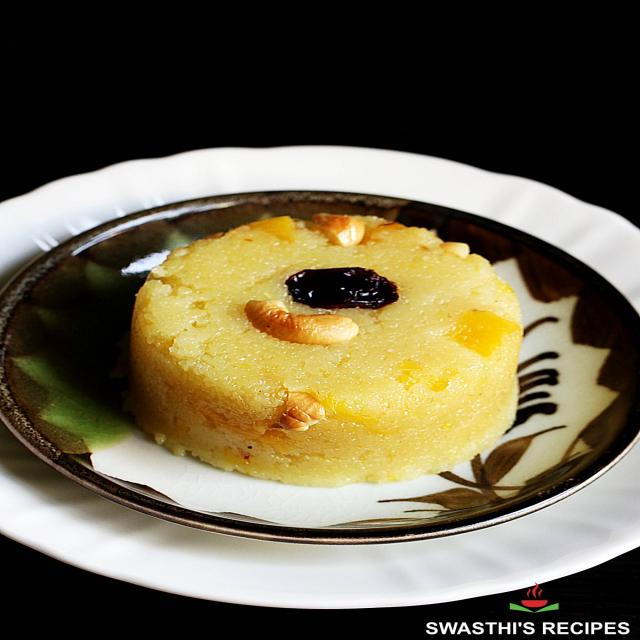kesari bath: (115, 199, 544, 495)
